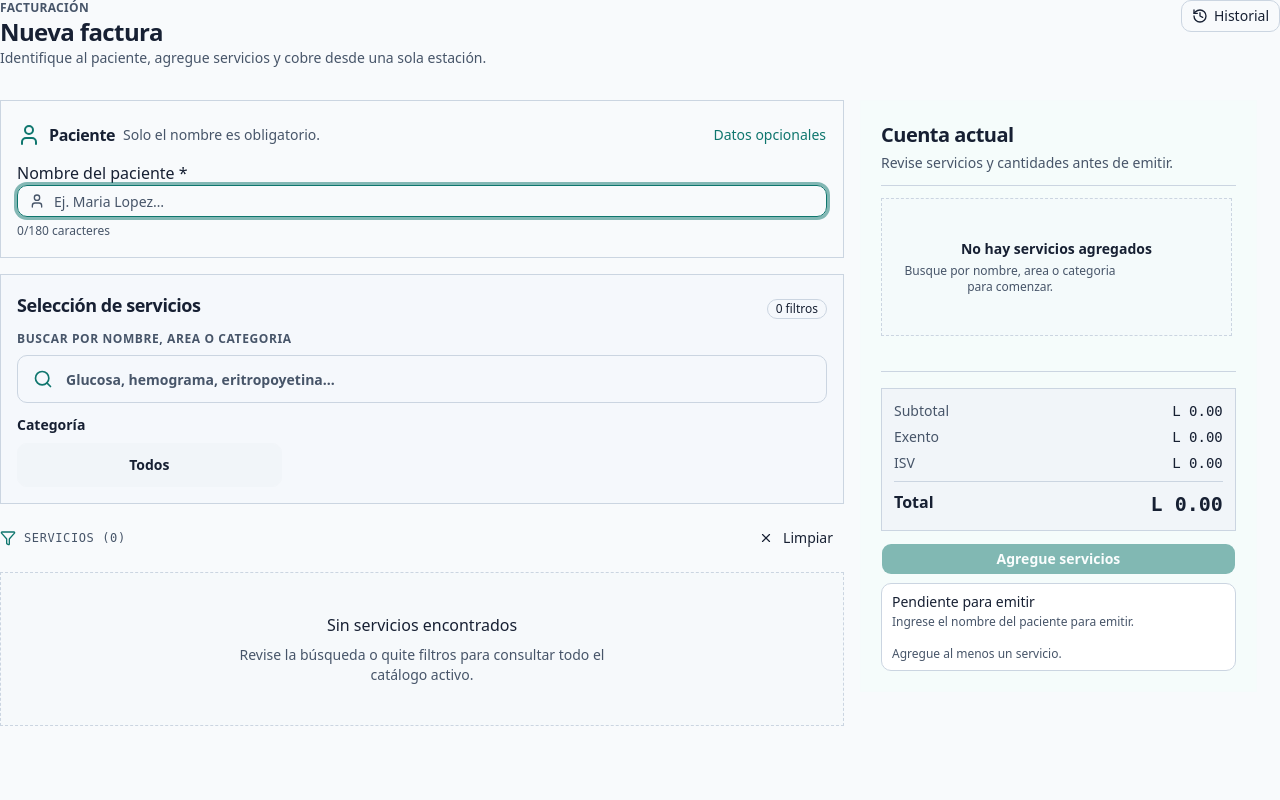
Test case: NewInvoiceView critical flows › preserves the cart after a 422 error from the backend
The width and height of the screenshot is (1280, 800).
In the field labelled "Nombre del paciente *": (422, 201) [17, 185, 827, 217], type "Maria Lopez"
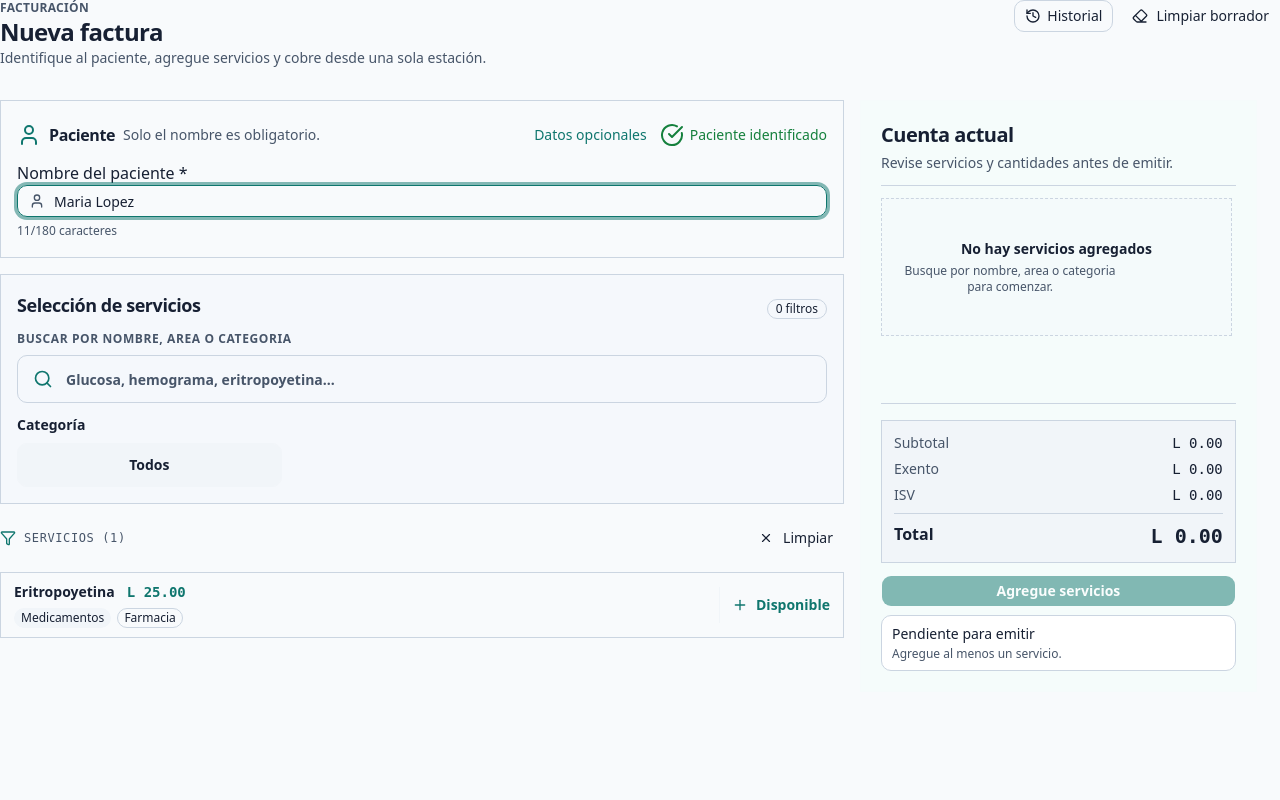
In the field labelled "Buscar por nombre, area o categoria": (422, 379) [17, 355, 827, 403], type "eritro"
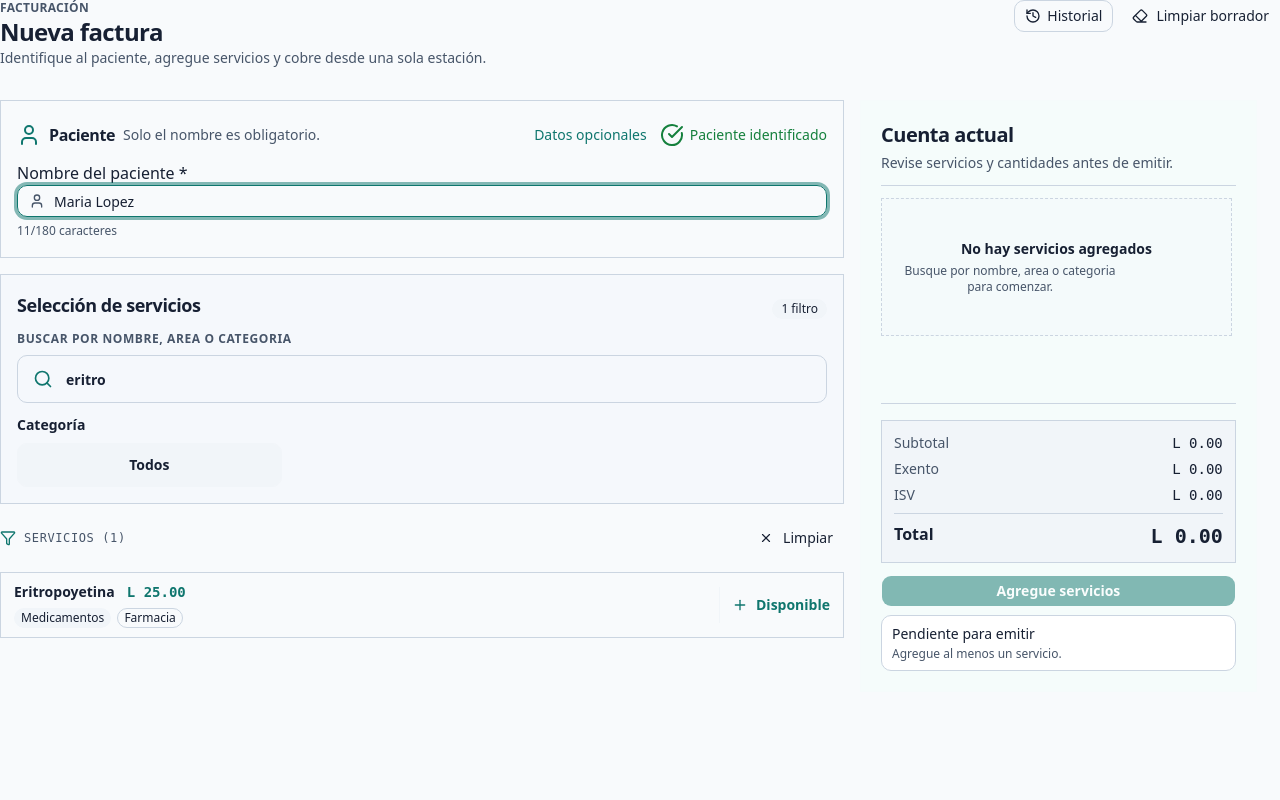
Check: the text "Eritropoyetina" is shown, box [14, 583, 115, 601]
Click the button with aria-label "agregar eritropoyetina": (64, 592) [1, 573, 843, 637]
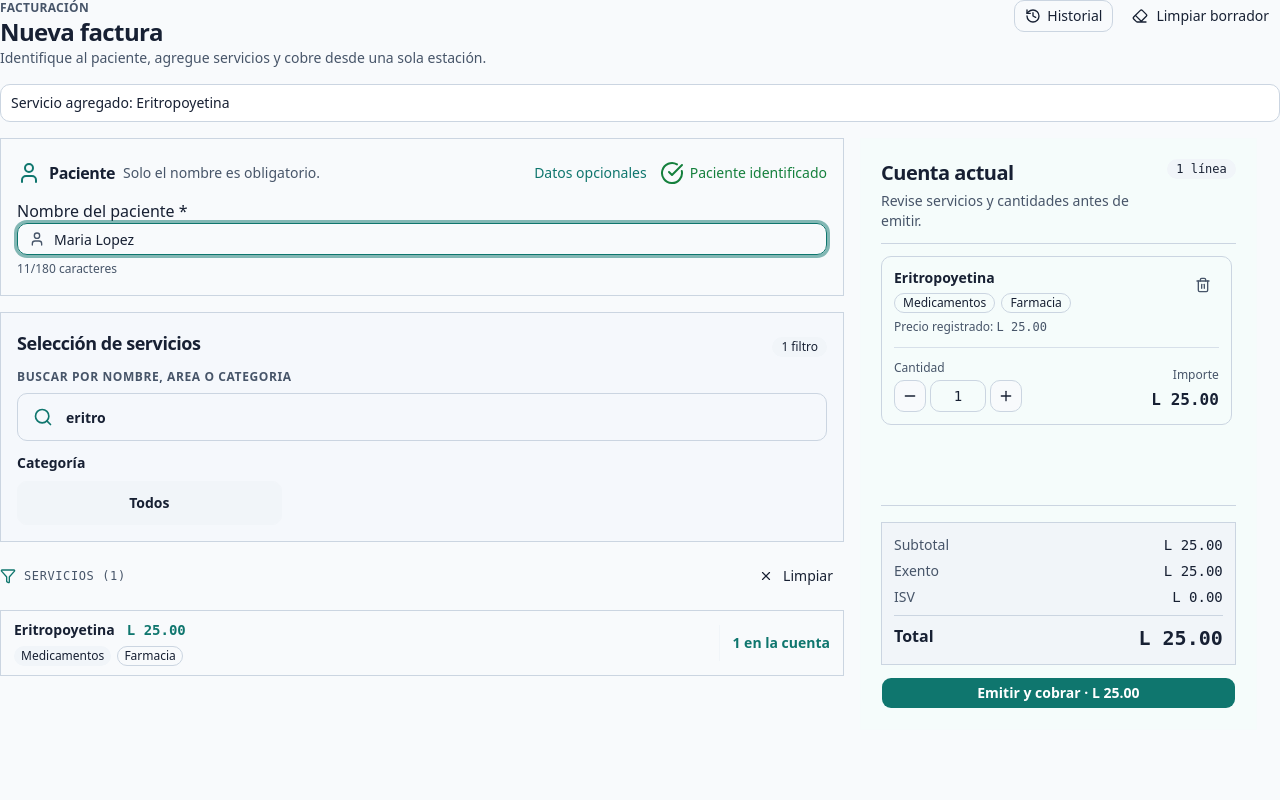
Click the button "Emitir y cobrar · L 25.00": (1058, 693) [881, 677, 1236, 709]
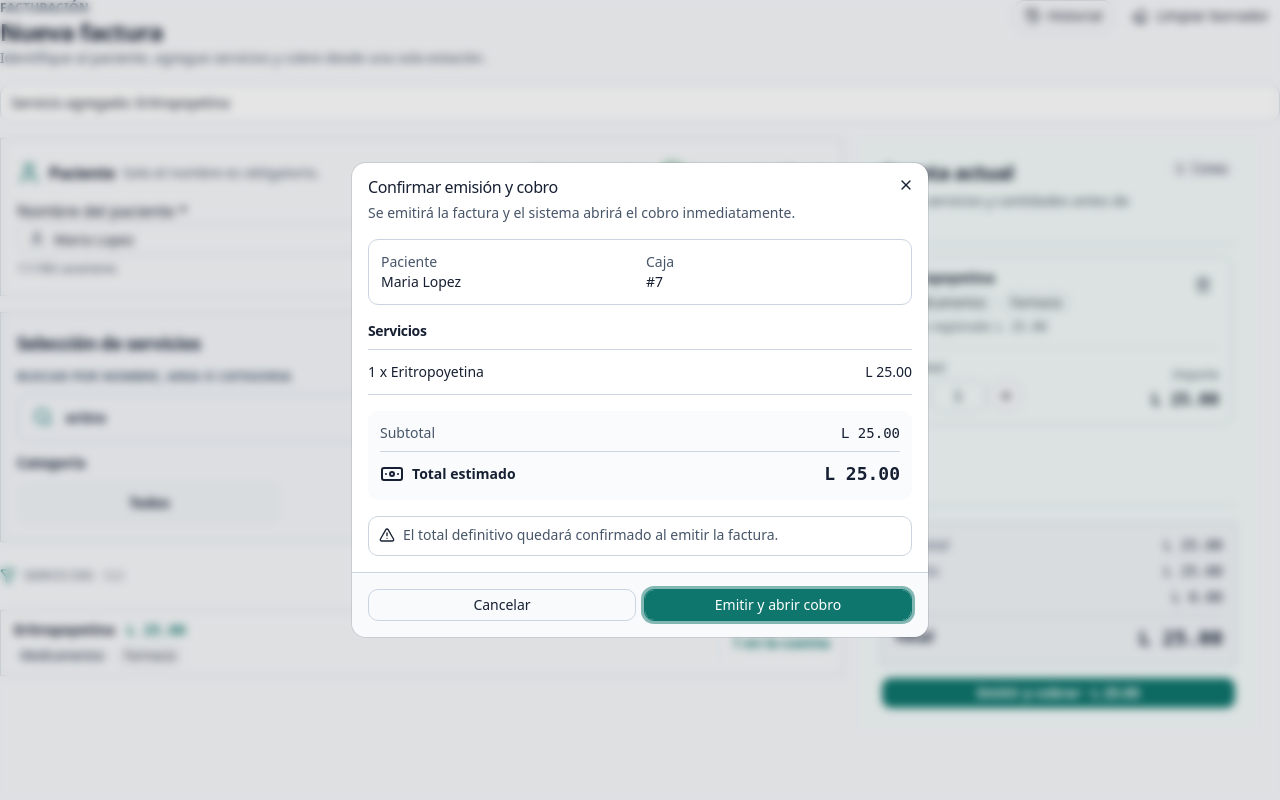
Check: the dialog "Confirmar emis" is shown, box [352, 163, 928, 637]
Click the button "Emitir y abrir cobro": (778, 605) [644, 589, 912, 621]
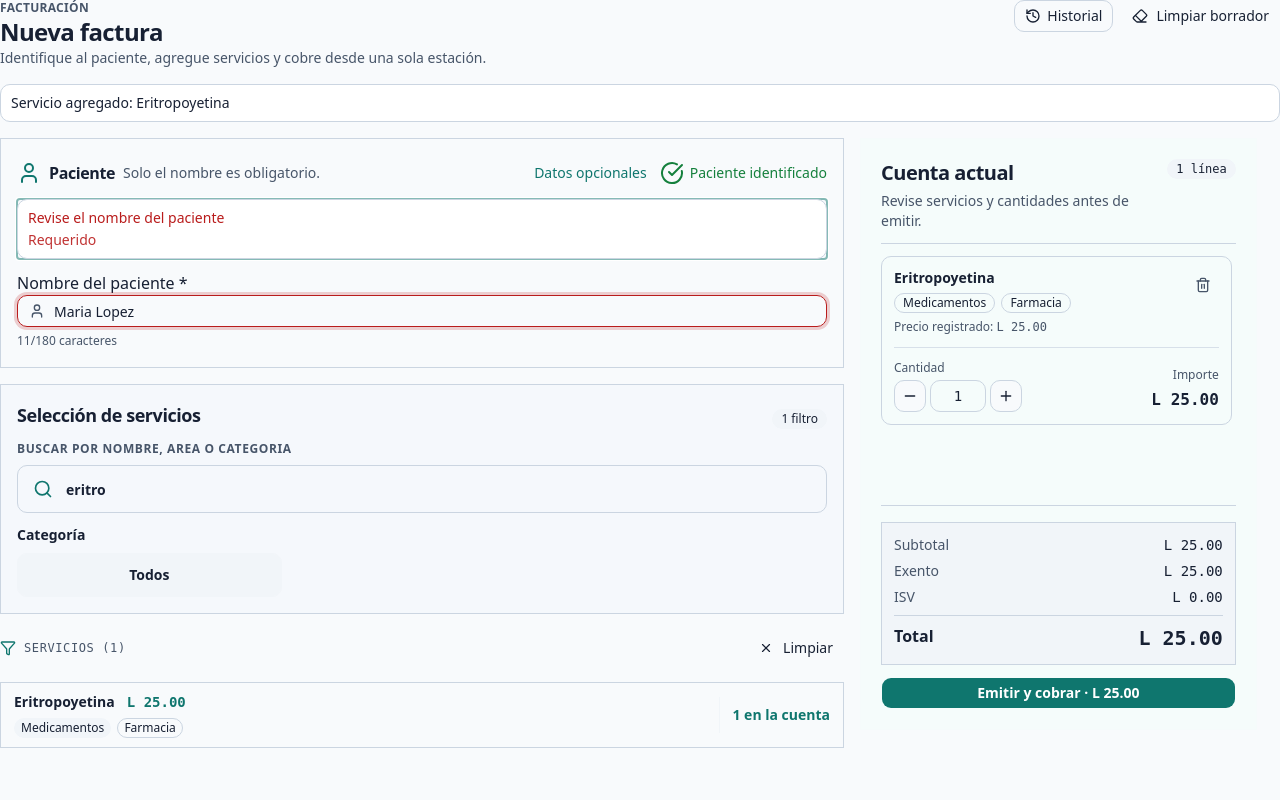
Check: the text "Eritropoyetina" below "Servicios (" is shown, box [14, 692, 115, 711]
Check: the message "Revise el nombre del paciente Requerido" is shown, box [17, 199, 827, 259]
